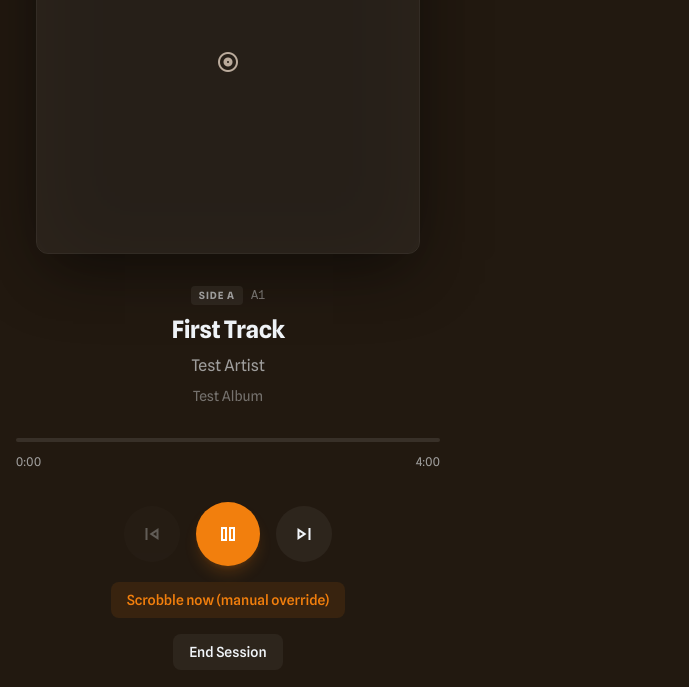
Scenario: SessionPage › displays error message when action fails
(page scrolled)
Click the button named "Pause" at (228, 534), box [196,502,260,566]
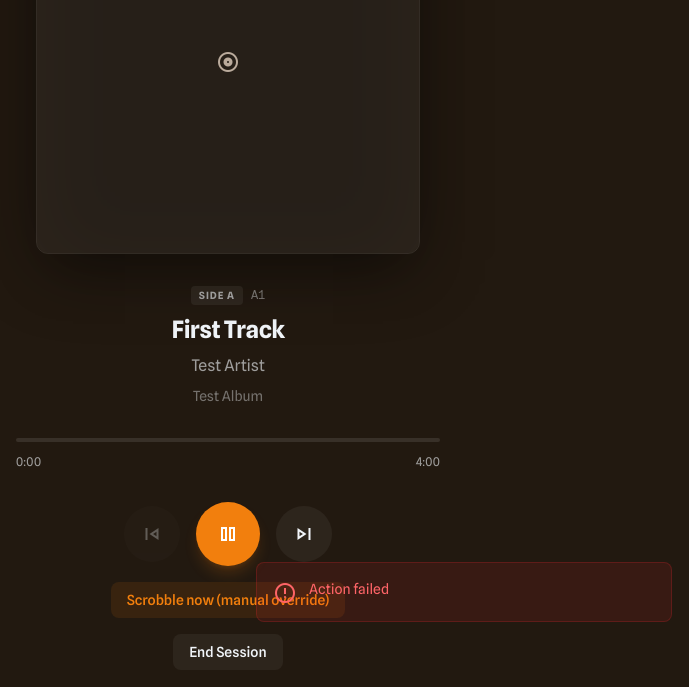
Expected: the text "Action failed" is shown, [309,581,389,597]
